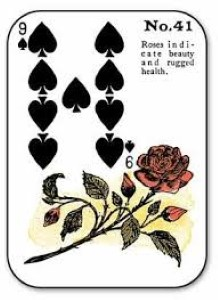NineOfSpades: (5, 8, 207, 293)
